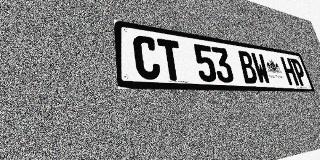3: (211, 46, 235, 83)
5: (193, 44, 218, 82)
B: (237, 50, 259, 84)
C: (132, 34, 162, 80)
H: (280, 57, 299, 85)
P: (290, 58, 309, 86)
T: (157, 38, 184, 81)
W: (250, 52, 272, 84)
